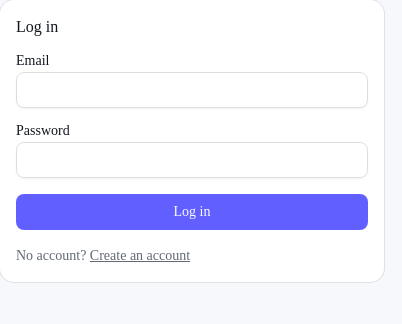
Test case: AuthForm › shows a validation error for a bad email on login
The width and height of the screenshot is (402, 324).
Type "not-an-email" into the field labelled "Email" at (192, 90), box [16,72,368,108]
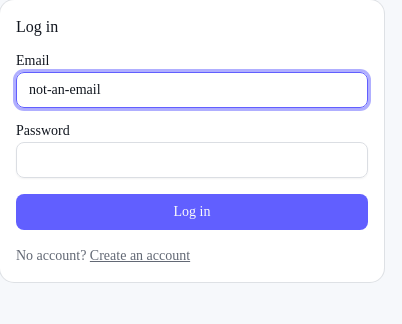
Type "secret" into the password field labelled "Password" at (192, 160), box [16,142,368,178]
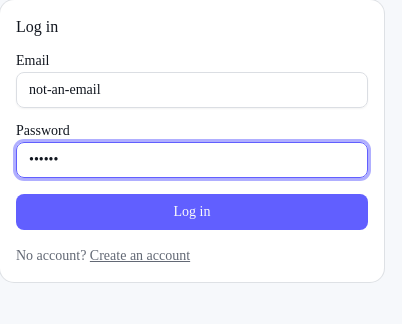
Click the button "Log in" at (192, 212), box [16,194,368,230]
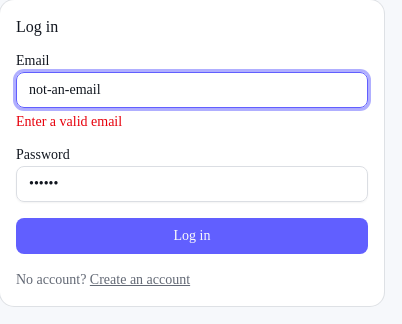
expect the text "Enter a valid email" is shown: met, box [16,114,122,129]
